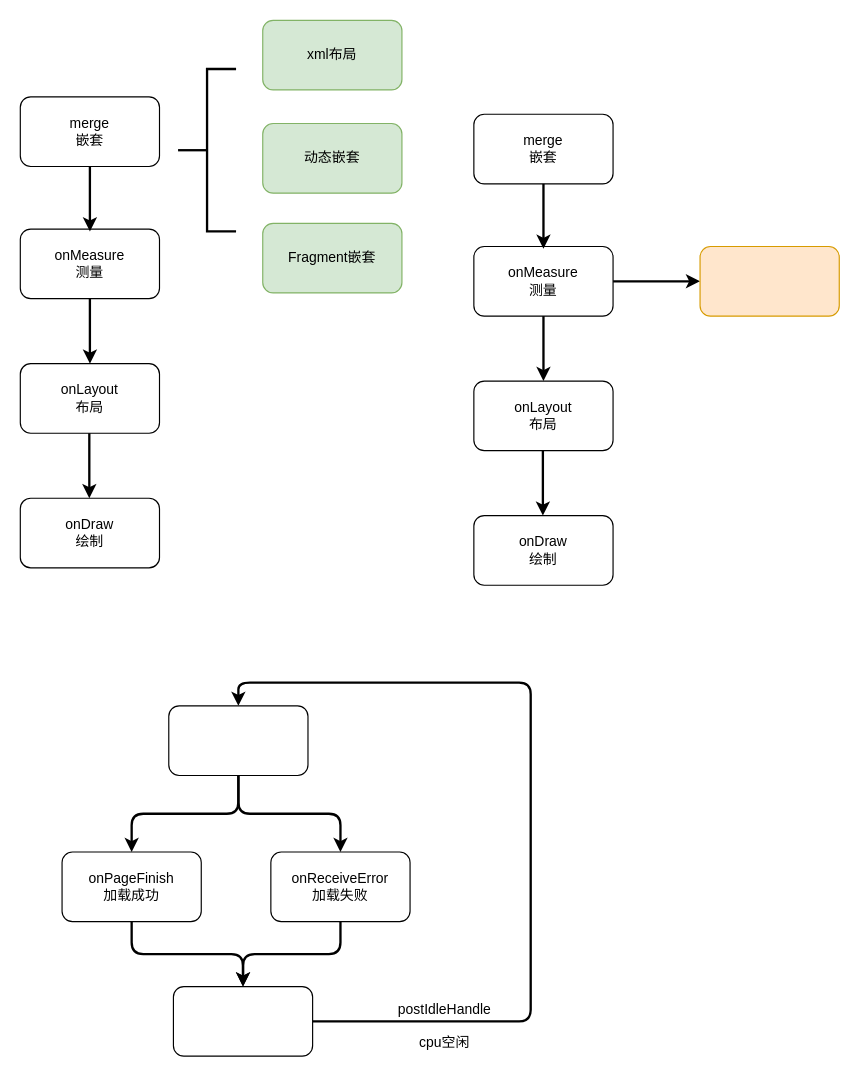
This 860x1076 diagram has some shape labels left out. Here are the shapes that lost their labels. From the top down, the centre of each, then its label:
the point at 769,280: LayoutParams 宽高，位置，对齐方式变化
the point at 238,740: createWeb 创建活动
the point at 242,1020: WebList 活动列表
